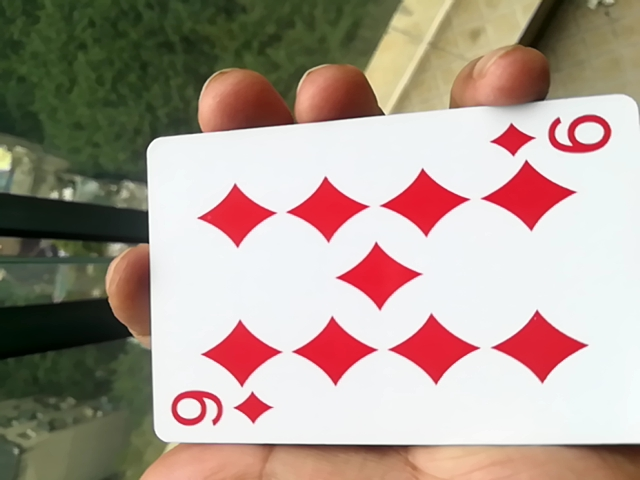fk 9: (129, 106, 638, 460)
